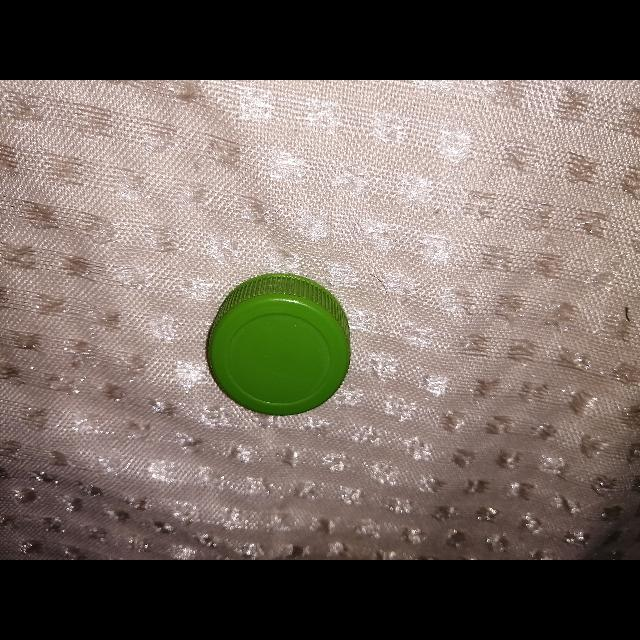plastic_bottle_cap: (208, 273, 350, 417)
